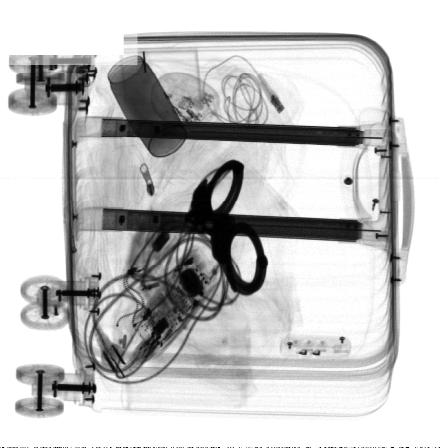HandCuffs: (183, 157, 271, 296)
